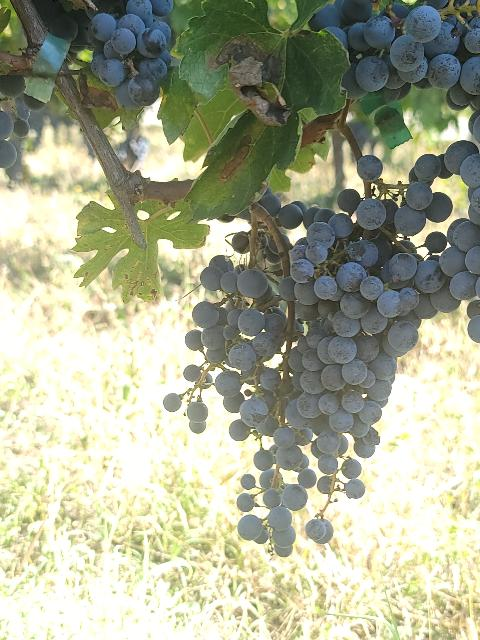grapes: (291, 155, 480, 499), (164, 232, 318, 558), (308, 0, 480, 114), (318, 516, 331, 541)
